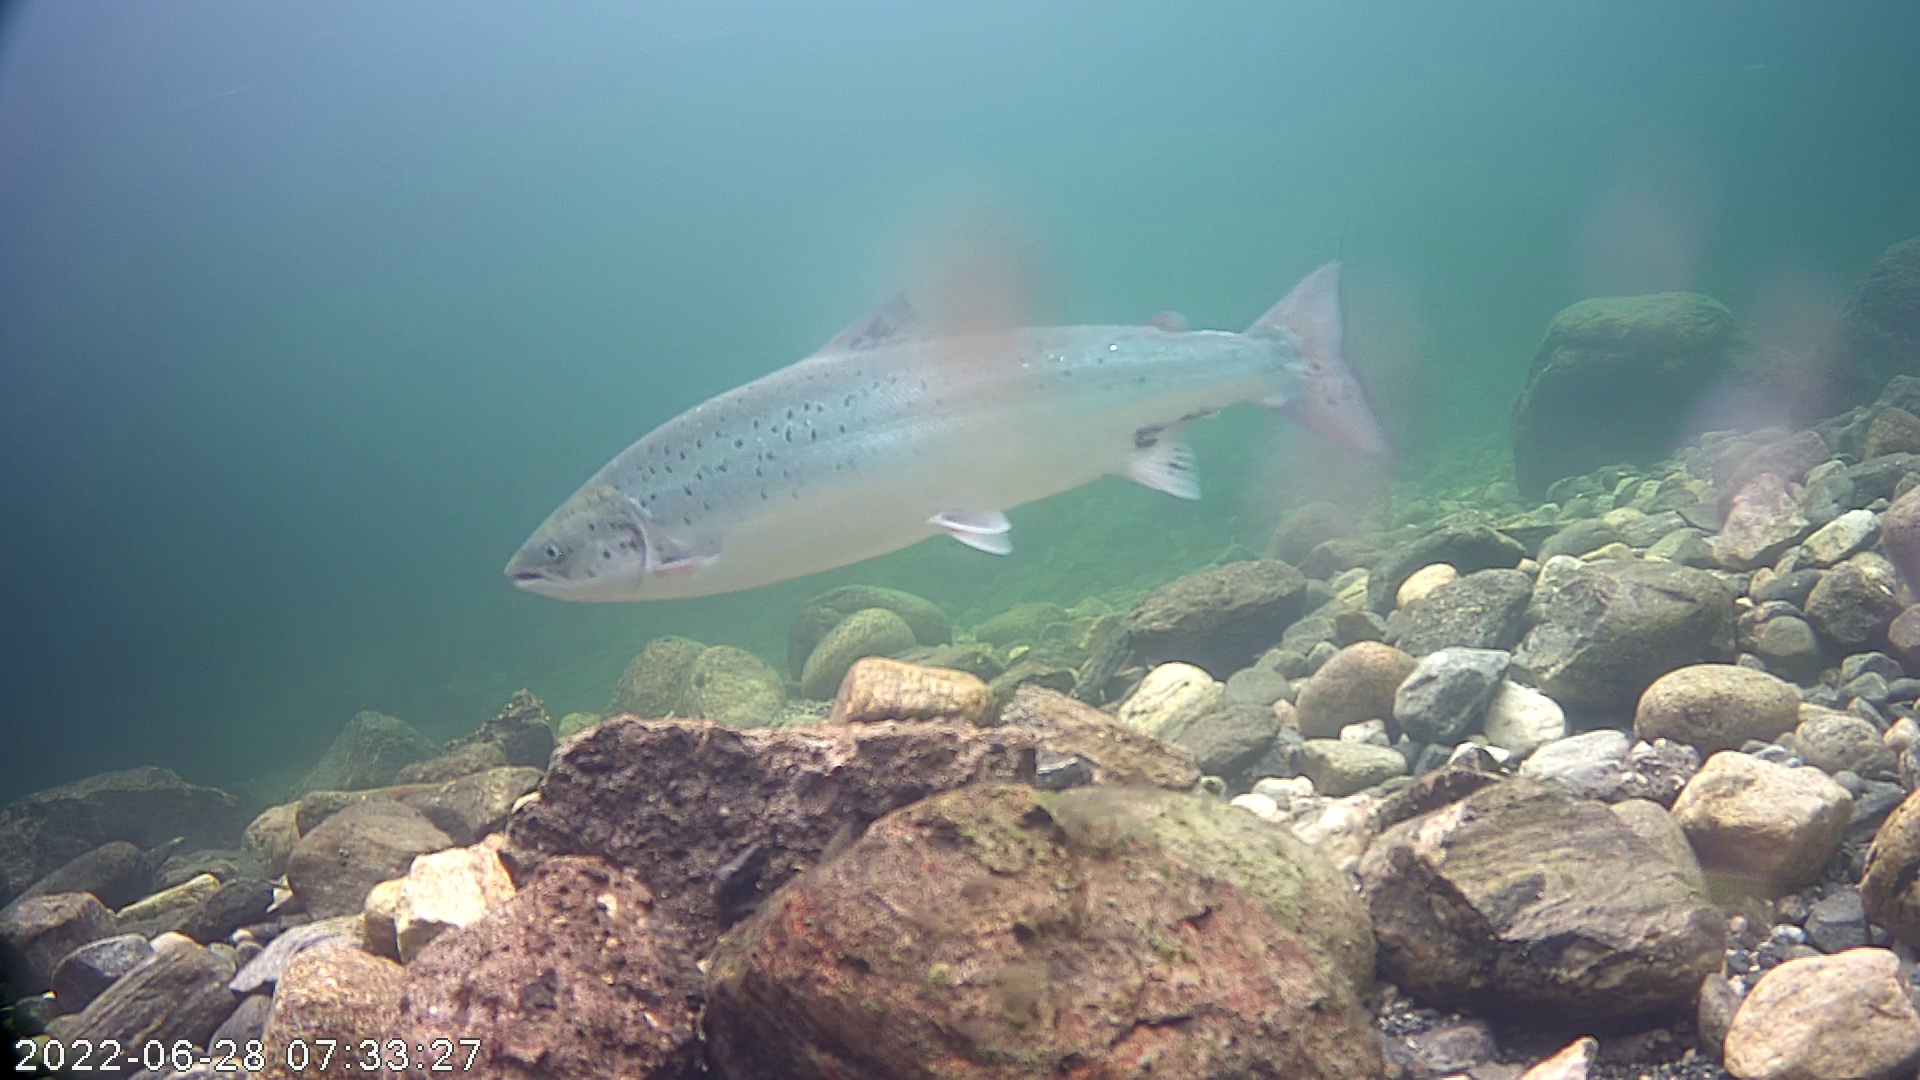salmon: (512, 187, 1414, 629)
